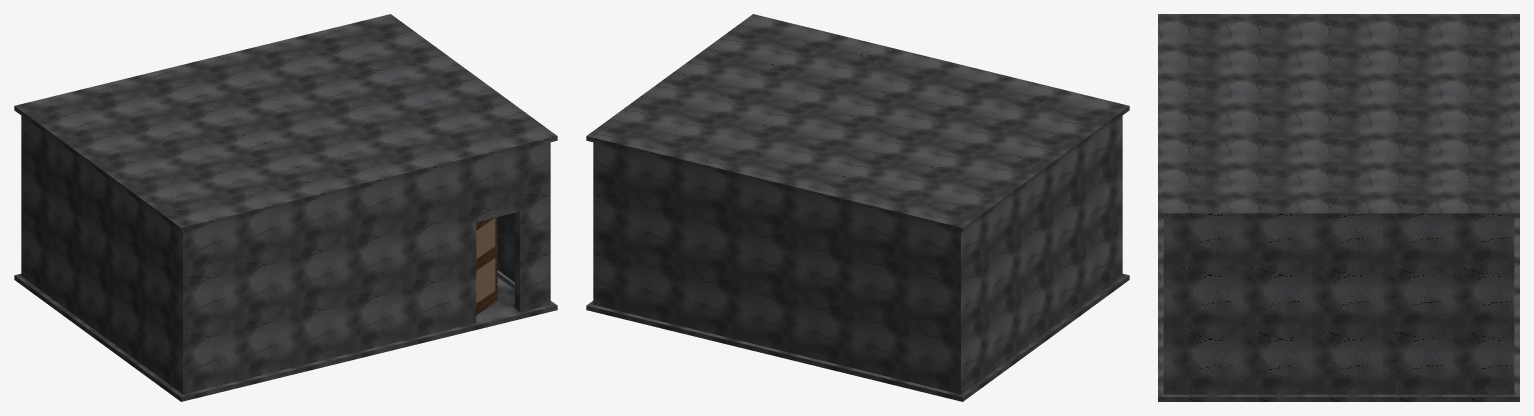
The model's file is ep_chave.glb.
3 renders of one model, left to right at view 1: azimuth 30°, elevation 25°; view 2: azimuth 150°, elevation 25°; view 3: azimuth 270°, elevation 25°, orthographic. The views are drawn at different scales.
Visible parts, largest first — view 1: concrete-col, flat, wood_dark; view 2: concrete-col; view 3: concrete-col.
Part boxes in pixels (x1,y1,x2,y2): concrete-col: (14, 14, 557, 401); flat: (476, 218, 495, 303); wood_dark: (476, 217, 497, 315); concrete-col: (586, 14, 1129, 401); concrete-col: (1158, 14, 1519, 401).
Size of the model in its own units: 8.6 by 3.8 by 6.6.
Materials: 35 (8 with a texture image).
